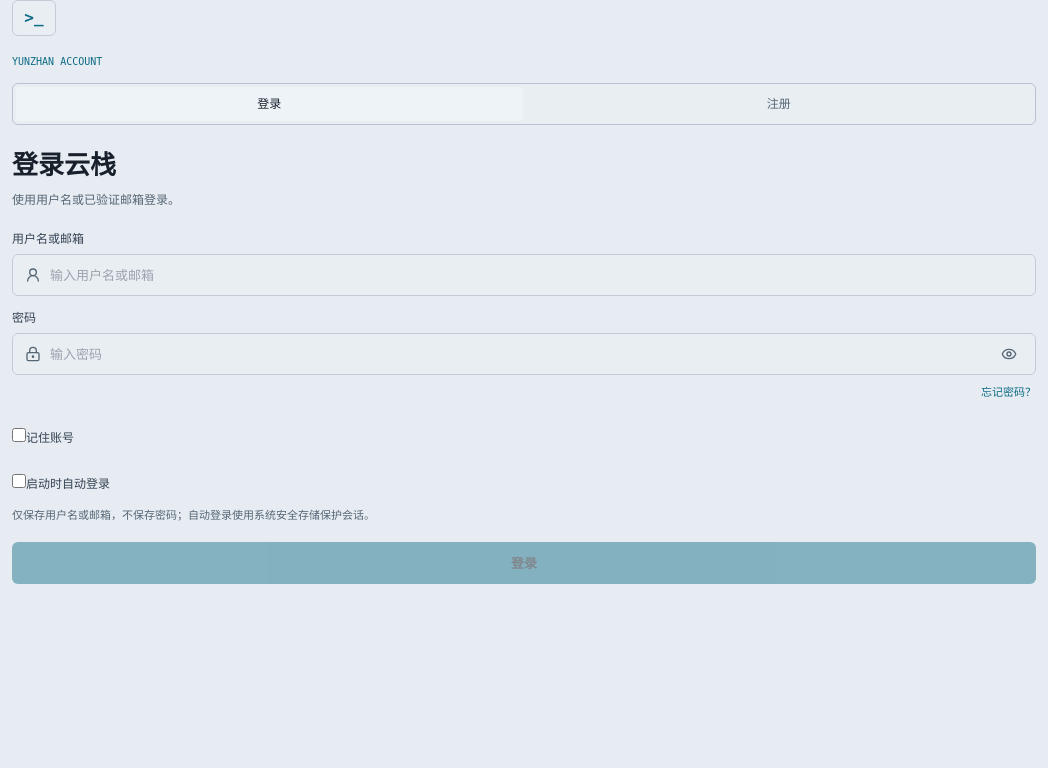
Scenario: AuthPanel login preferences › links auto login checkbox to remember account on desktop
Click the checkbox with id "auto-login-on-startup": x=19, y=481 [12, 474, 26, 488]
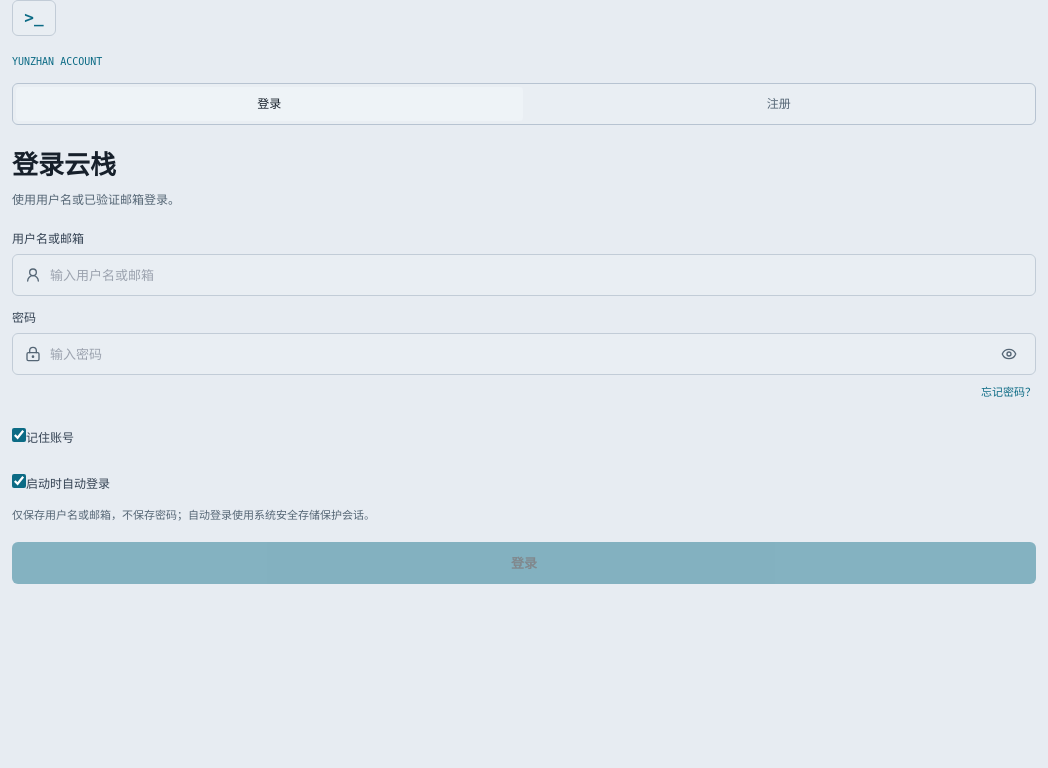
Expected: the checkbox with id "remember-desktop-identifier" is checked, [12, 428, 26, 442]
